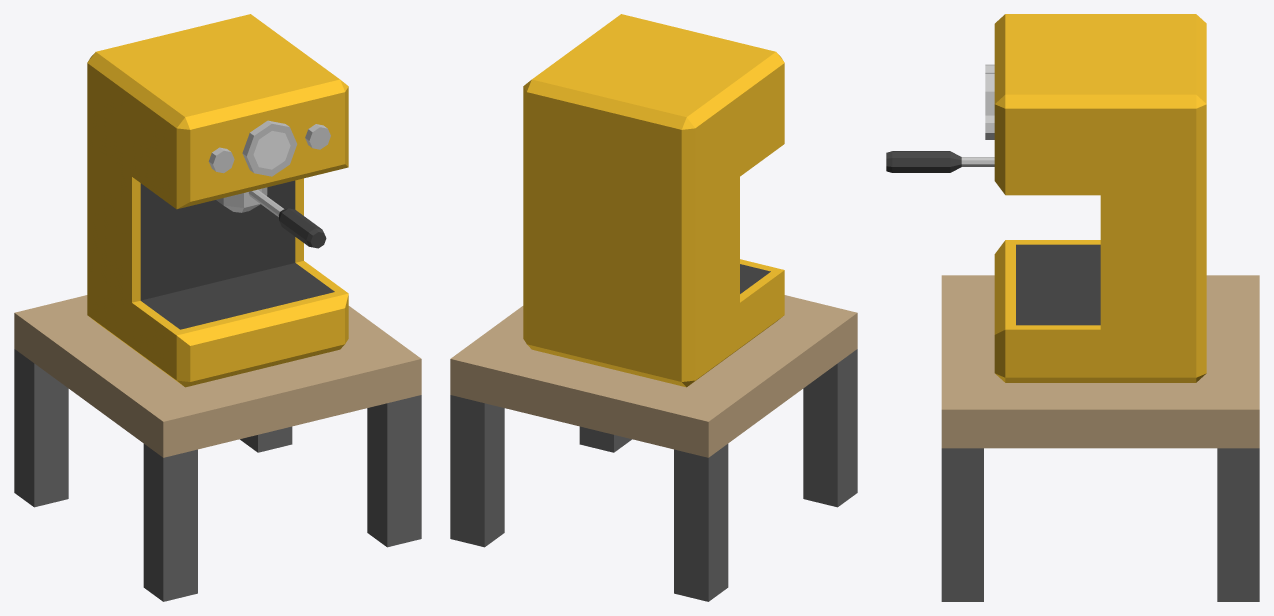
File: CoffeeMachine01.fbx
3 views of the same model, side by side, from view 1: azimuth 30°, elevation 25°; view 2: azimuth 150°, elevation 25°; view 3: azimuth 270°, elevation 25° (orthographic). The views are drawn at different scales.
Parts seen in each view (by area): view 1: CoffeeMachine01; view 2: CoffeeMachine01; view 3: CoffeeMachine01.
Boxes of the visible parts, x1,y1,x2,y2 form: CoffeeMachine01: [14, 14, 421, 601]; CoffeeMachine01: [450, 14, 857, 601]; CoffeeMachine01: [886, 14, 1259, 601].
Bounding box in the file's own units: 1.5 × 2.5 × 1.76.
